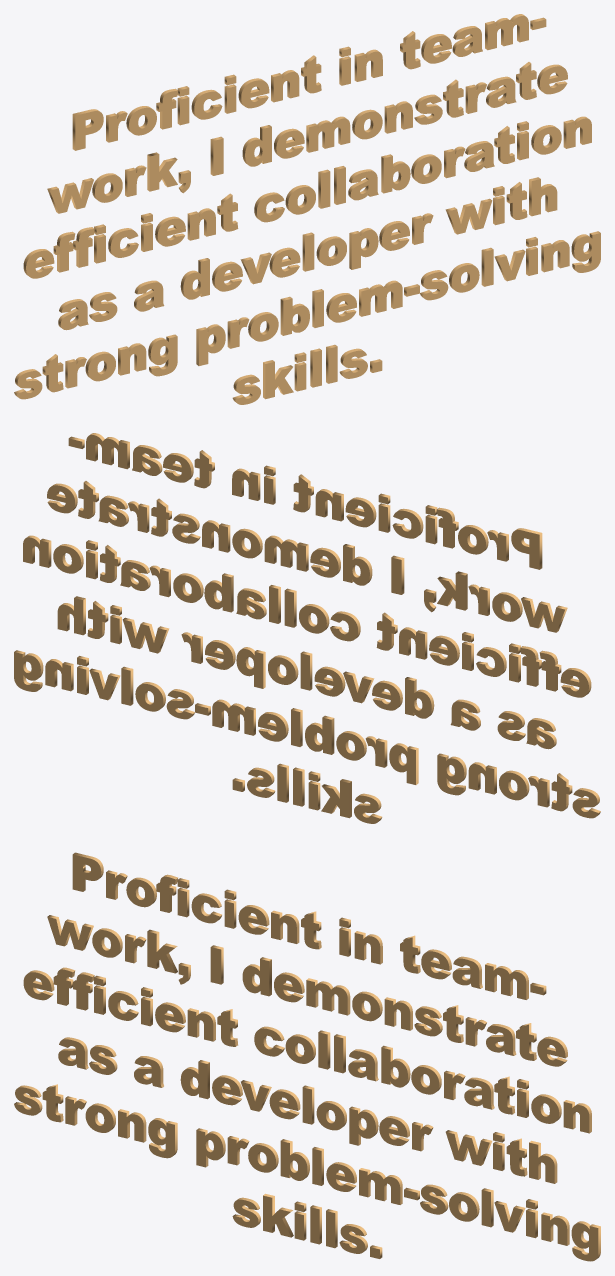
Rendered from desc-n3teamwork.glb.
3 renders of one model, top to bottom at view 1: azimuth 30°, elevation 25°; view 2: azimuth 150°, elevation 25°; view 3: azimuth 330°, elevation 25°, orthographic.
Visible parts, largest first — view 1: teamwork; view 2: teamwork; view 3: teamwork.
Part boxes in pixels (x1,y1,x2,y2): teamwork: (14, 14, 600, 404); teamwork: (14, 433, 600, 823); teamwork: (14, 852, 600, 1261).
Bounding box in the file's own units: 0.1335 × 0.0723 × 0.001.
